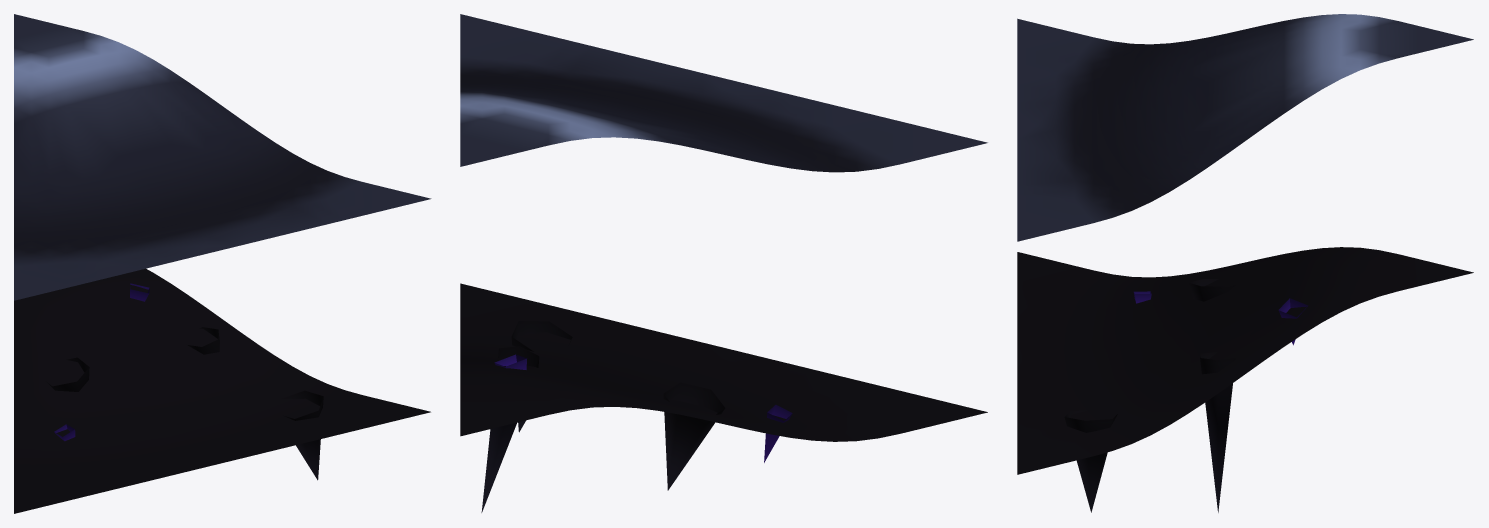
The model's file is MODULE_HOLLOW_RAMP_CORNER.fbx.
3 renders of one model, left to right at view 1: azimuth 30°, elevation 25°; view 2: azimuth 150°, elevation 25°; view 3: azimuth 270°, elevation 25°, orthographic. The views are drawn at different scales.
Parts seen in each view (by area): view 1: MODULE_HOLLOW_RAMP_CORNER__export, MODULE_HOLLOW_RAMP_CORNER_DECOR__export; view 2: MODULE_HOLLOW_RAMP_CORNER__export, MODULE_HOLLOW_RAMP_CORNER_DECOR__export; view 3: MODULE_HOLLOW_RAMP_CORNER__export, MODULE_HOLLOW_RAMP_CORNER_DECOR__export.
Part boxes in pixels (left/top/right/bottom): MODULE_HOLLOW_RAMP_CORNER__export: left=14, top=14, right=431, bottom=513; MODULE_HOLLOW_RAMP_CORNER_DECOR__export: left=46, top=283, right=323, bottom=480; MODULE_HOLLOW_RAMP_CORNER__export: left=460, top=14, right=987, bottom=441; MODULE_HOLLOW_RAMP_CORNER_DECOR__export: left=481, top=321, right=792, bottom=512; MODULE_HOLLOW_RAMP_CORNER__export: left=1017, top=14, right=1473, bottom=474; MODULE_HOLLOW_RAMP_CORNER_DECOR__export: left=1064, top=279, right=1308, bottom=512.
Size of the model in its own units: 100 by 87.98 by 86.6.
